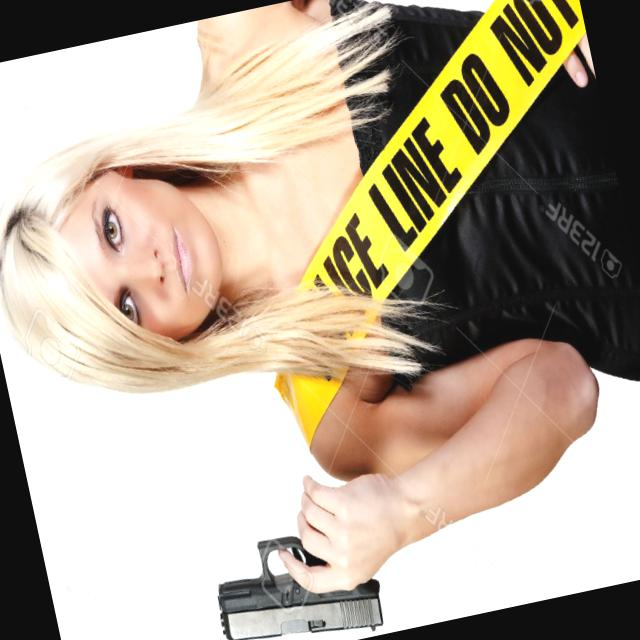handgun: (196, 498, 389, 639)
